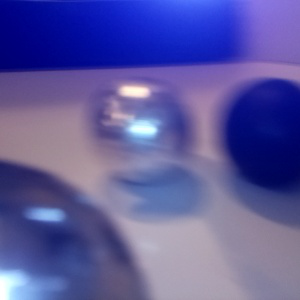alive_ball: (1, 159, 147, 300), (91, 76, 191, 185)
dead_ball: (216, 77, 300, 187)
